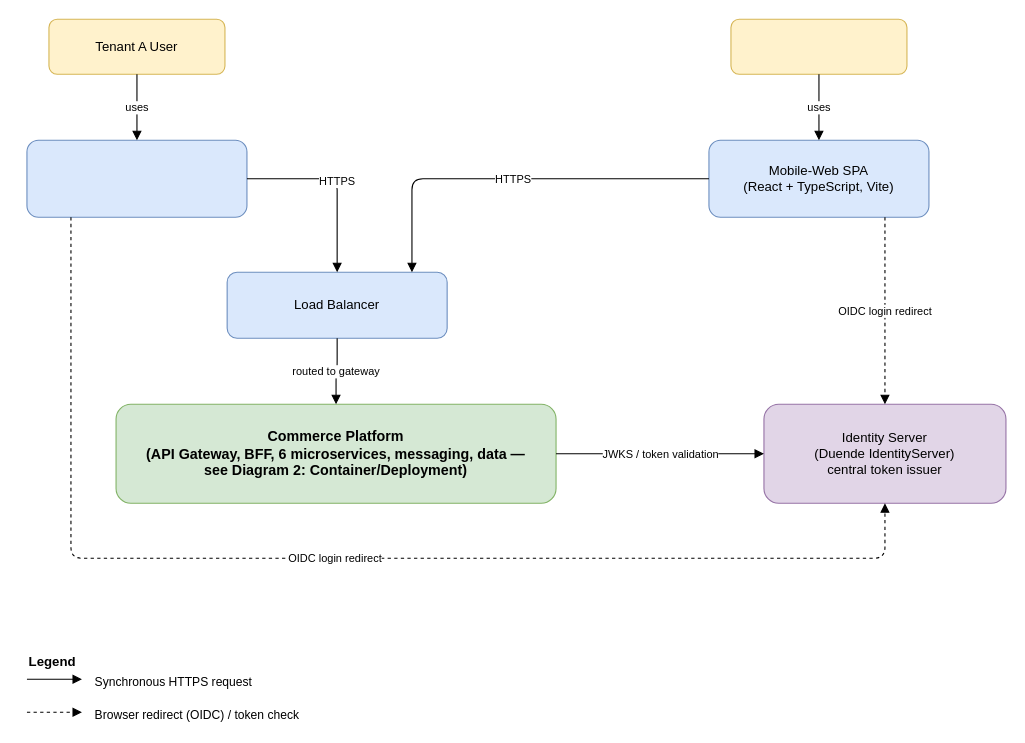
This 1025x743 diagram has some shape labels left out. The box of each missing label's shape, as (x1, y1, x2, y2) in pixels:
Tenant B User: (730, 18, 907, 74)
Web SPA (React + TypeScript, Vite): (26, 139, 247, 217)
